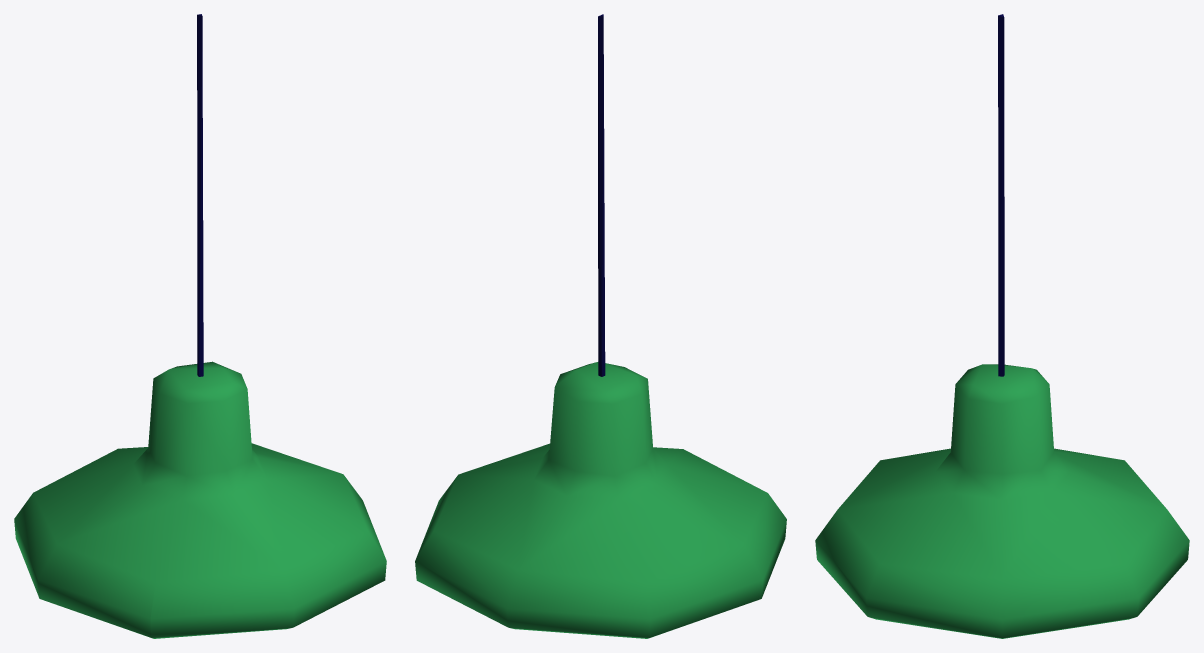
The model's file is lamp_interior.glb.
3 renders of one model, left to right at view 1: azimuth 30°, elevation 25°; view 2: azimuth 150°, elevation 25°; view 3: azimuth 270°, elevation 25°, orthographic.
Parts seen in each view (by area): view 1: Lamp_interior; view 2: Lamp_interior; view 3: Lamp_interior.
Boxes of the visible parts, box(x1,y1,x2,y2) form: Lamp_interior: box(14, 14, 386, 638); Lamp_interior: box(415, 14, 786, 638); Lamp_interior: box(815, 14, 1189, 638).
Bounding box in the file's own units: 2.1 × 3.78 × 2.1.
1 material, 1 textured.
